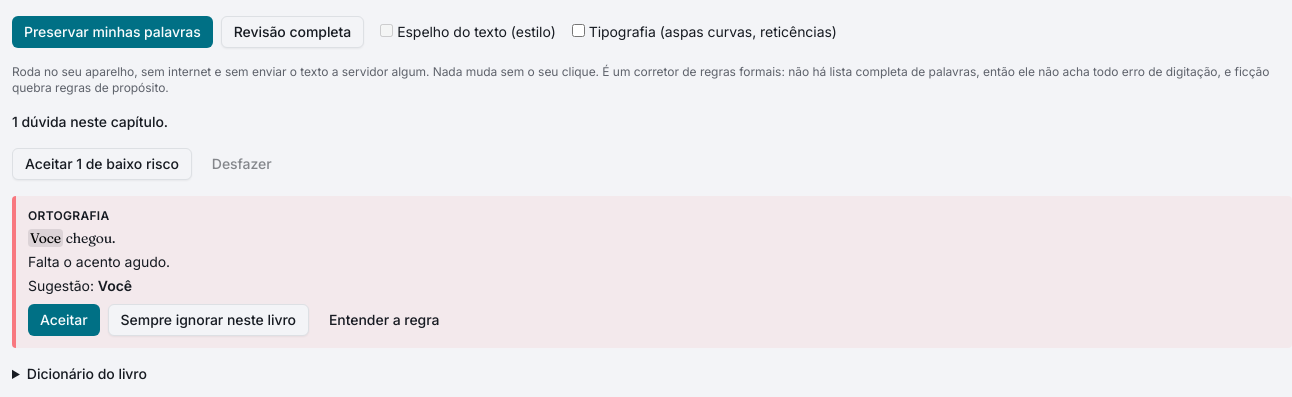
it: ProofreadPanel › sempre ignorar remove o alerta
The width and height of the screenshot is (1292, 397).
What coordinates should you click on to do the following:
click the button "Sempre ignorar neste livro"
I would click on:
 (208, 320)
Its box is [108, 304, 309, 336].
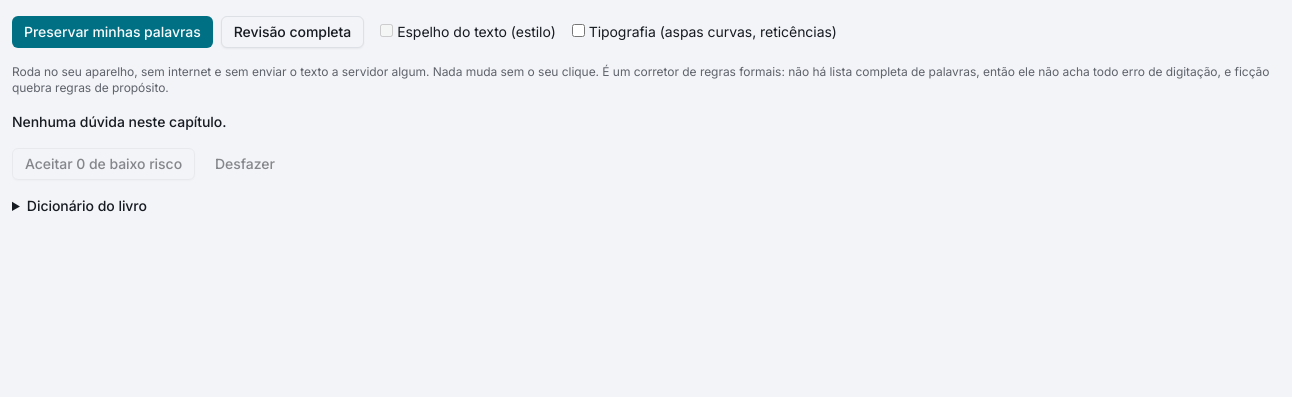
Result: the text "Nenhuma dúvida neste capítulo." is shown at [12, 113, 226, 130]
